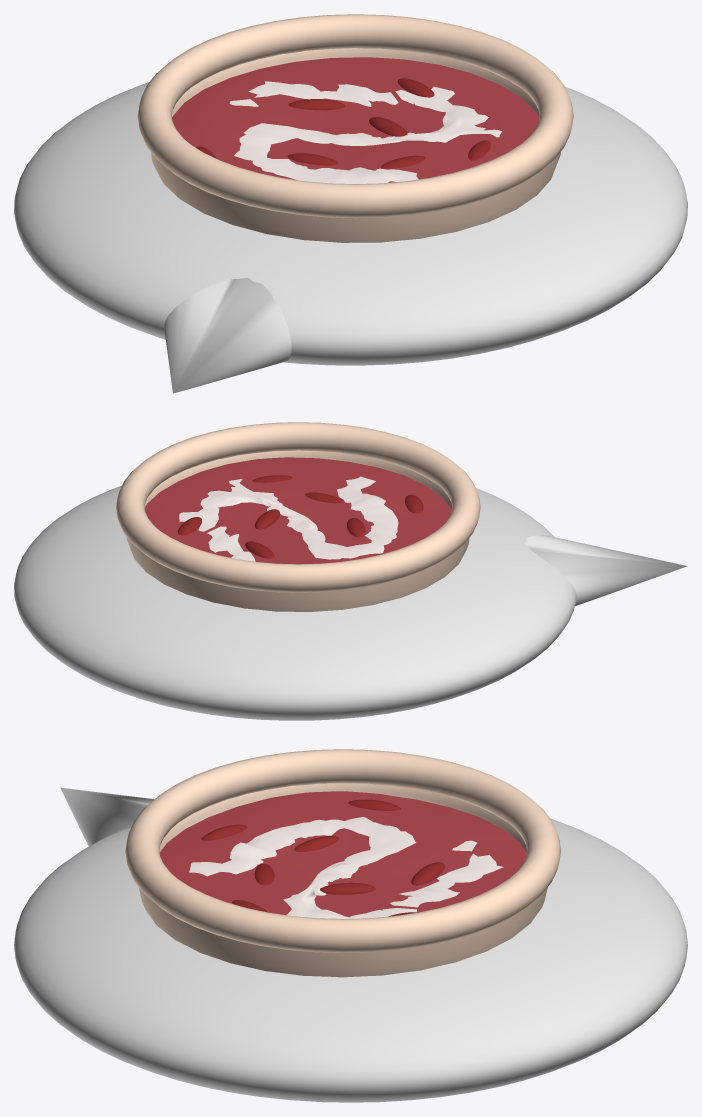
File: pulutreq.fbx
3 renders of one model, top to bottom at view 1: azimuth 30°, elevation 25°; view 2: azimuth 150°, elevation 25°; view 3: azimuth 270°, elevation 25°, orthographic. The views are drawn at different scales.
Parts seen in each view (by area): view 1: Sphere.001, Torus, Sphere.051, Cone, Sphere.060, Sphere.055; view 2: Sphere.001, Torus, Sphere.051, Sphere.060, Cone, Sphere.055; view 3: Sphere.001, Torus, Sphere.051, Sphere.060, Cone, Sphere.055.
Boxes of the visible parts, <box> form: Sphere.001: <box>14,82,687,365</box>; Torus: <box>137,14,573,242</box>; Sphere.051: <box>172,57,539,182</box>; Cone: <box>164,277,291,393</box>; Sphere.060: <box>229,81,501,183</box>; Sphere.055: <box>196,78,490,168</box>; Sphere.001: <box>14,485,576,720</box>; Torus: <box>116,422,480,611</box>; Sphere.051: <box>144,457,451,564</box>; Sphere.060: <box>179,476,398,561</box>; Cone: <box>524,535,687,606</box>; Sphere.055: <box>177,475,423,558</box>; Sphere.001: <box>14,818,687,1102</box>; Torus: <box>125,749,560,977</box>; Sphere.051: <box>160,791,526,917</box>; Sphere.060: <box>189,817,503,918</box>; Cone: <box>60,787,154,846</box>; Sphere.055: <box>201,799,444,916</box>.
Bounding box in the file's own units: 339 × 96.31 × 322.
